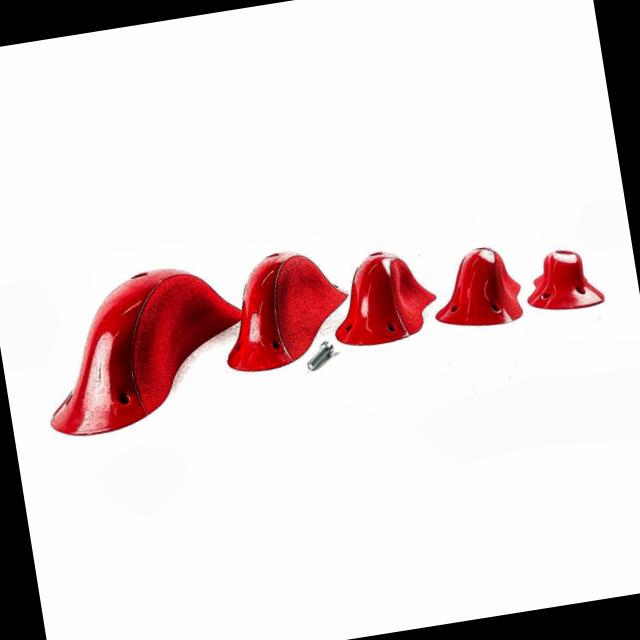Hold: (13, 219, 262, 446), (206, 228, 362, 391), (322, 227, 454, 359), (422, 233, 528, 339), (520, 235, 608, 322)
